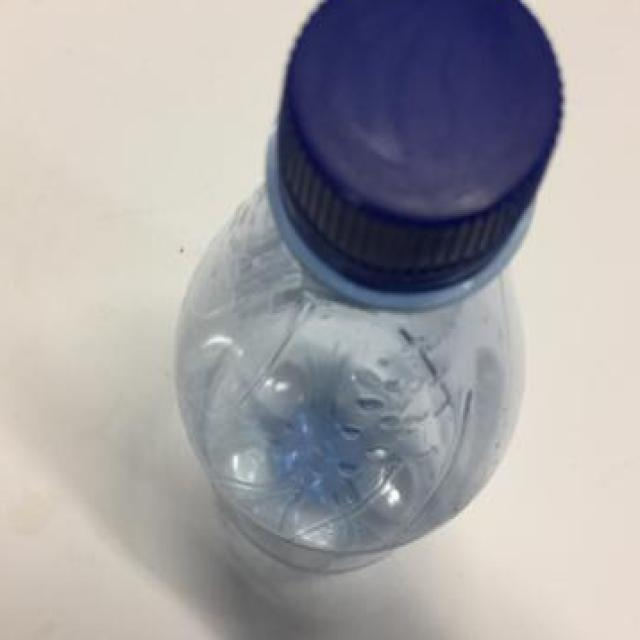organic: (160, 4, 574, 613)
